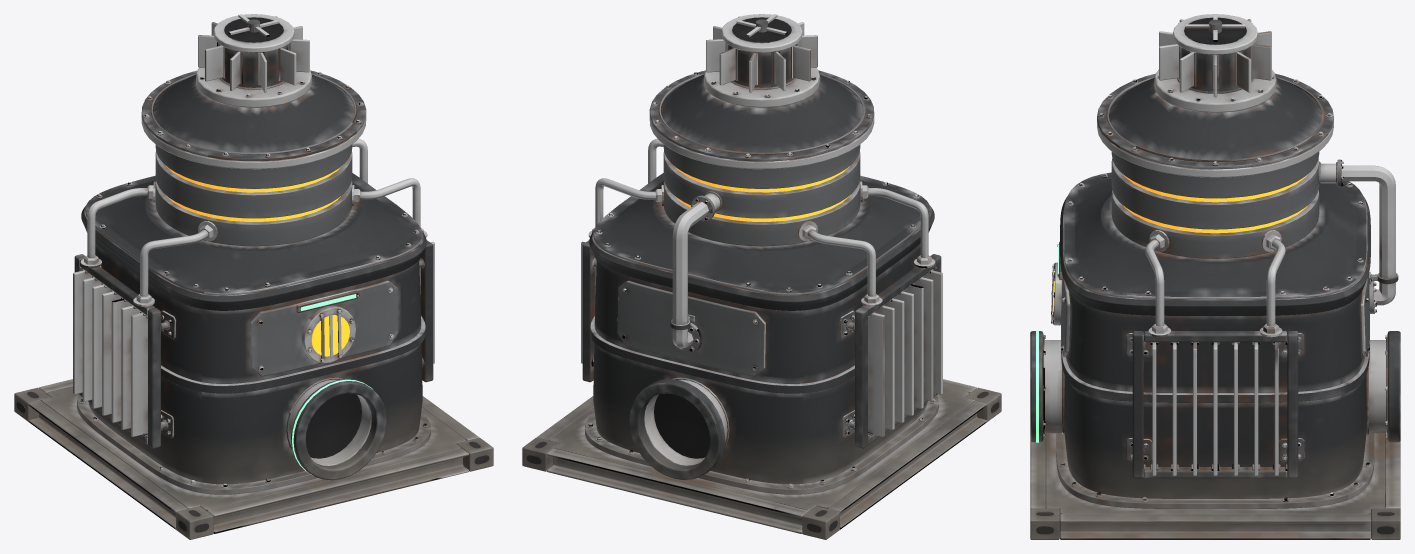
Rendered from SM_Smelter.glb.
3 renders of one model, left to right at view 1: azimuth 30°, elevation 25°; view 2: azimuth 150°, elevation 25°; view 3: azimuth 270°, elevation 25°, orthographic. The views are drawn at different scales.
Parts seen in each view (by area): view 1: SM_Smelter; view 2: SM_Smelter; view 3: SM_Smelter, SM_Smelter_Fan.
Boxes of the visible parts, box(x1,y1,x2,y2) form: SM_Smelter: box(14, 14, 493, 539); SM_Smelter: box(522, 14, 1001, 539); SM_Smelter: box(1030, 14, 1400, 539); SM_Smelter_Fan: box(1186, 14, 1244, 41).
Size of the model in its own units: 2 by 2.62 by 2.
Materials: 7 (5 with a texture image).
